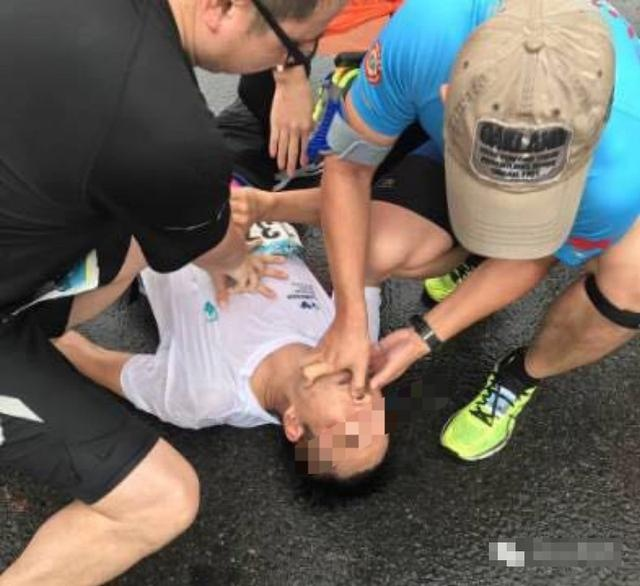falling: (71, 153, 420, 503)
